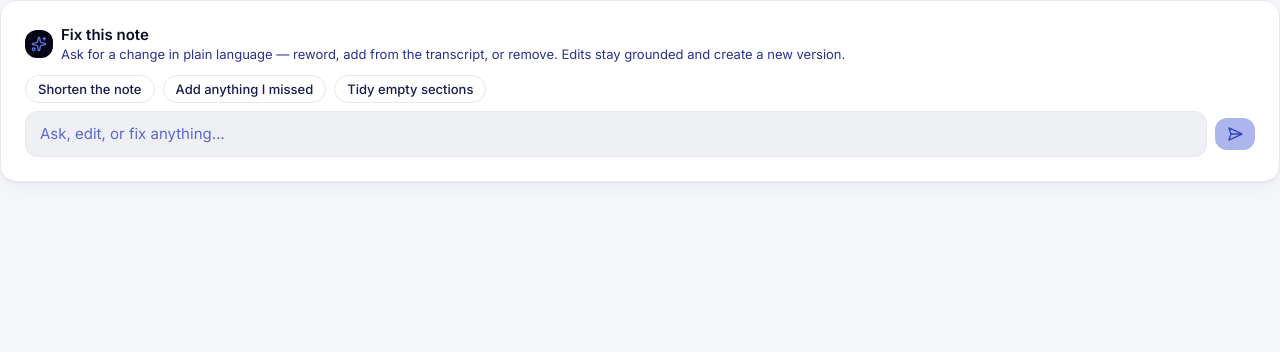
Test: NoteAssistChat (fix this note) › sends the typed message and shows both the user and assistant bubbles
The image size is (1280, 352).
Step 1. Type "shorten the hpi" into the field with placeholder "Ask, edit, or fix anything…" → (616, 134), box [25,111,1207,157]
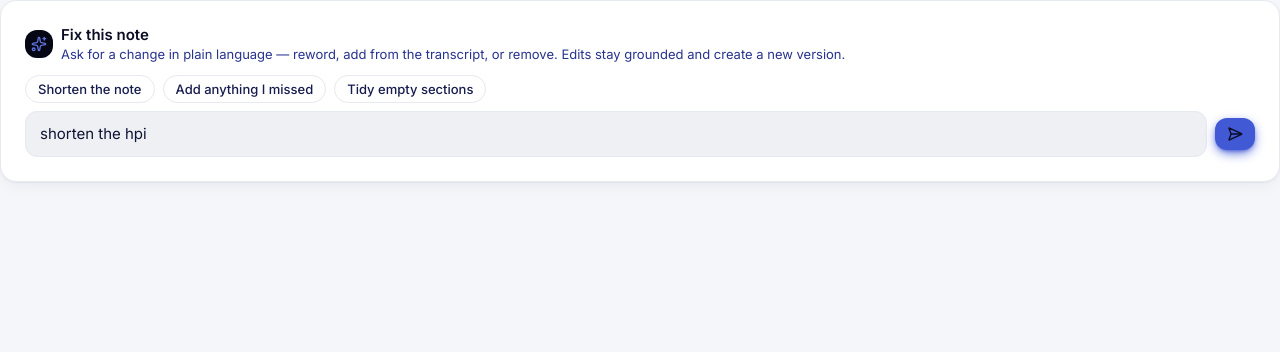
Step 2. Click the button named "Send" → (1235, 134), box [1215,118,1255,150]
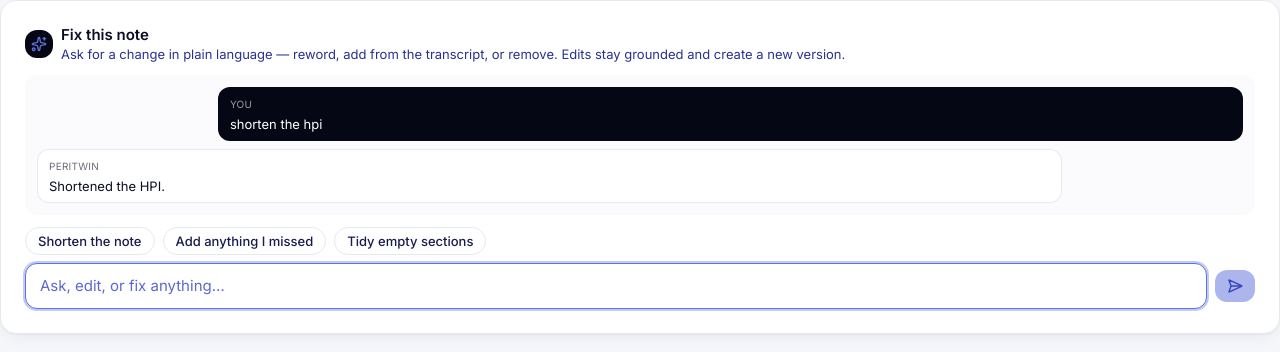
Now the text "Shortened the HPI." is shown, box [49,178,165,194]
Now the text "shorten the hpi" is shown, box [230,116,322,132]
